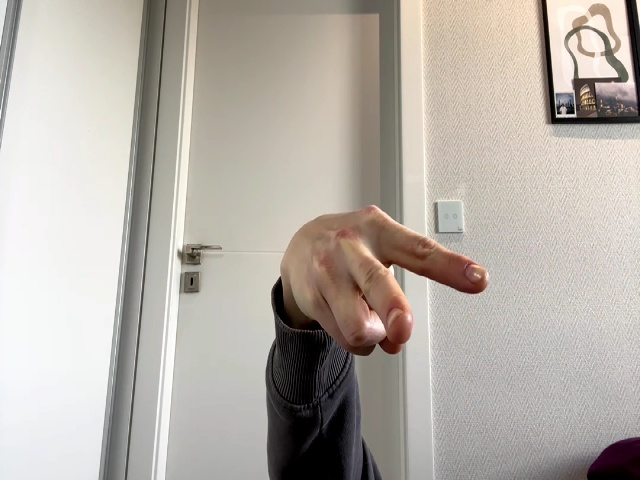U: (281, 205, 488, 356)
